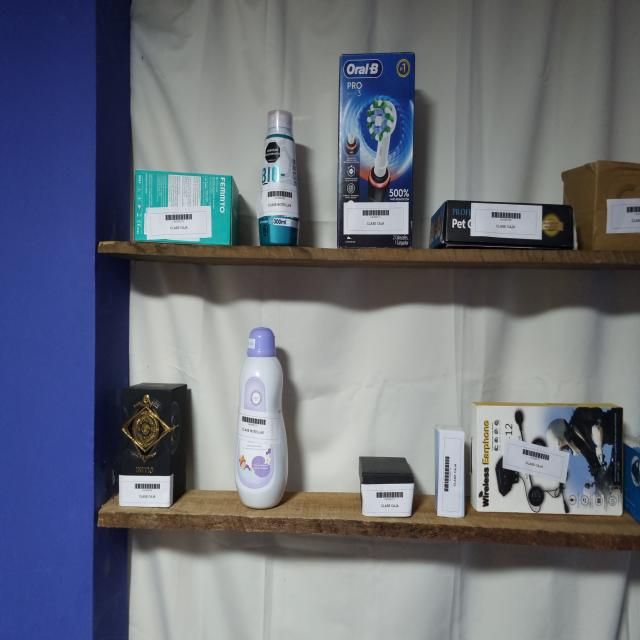botella: (235, 327, 288, 509), (256, 110, 299, 246)
caja: (471, 403, 623, 515), (337, 52, 415, 248), (118, 383, 190, 509), (134, 170, 239, 245), (429, 200, 577, 250), (562, 161, 640, 251), (359, 456, 414, 517), (435, 425, 465, 518), (624, 423, 640, 522)
